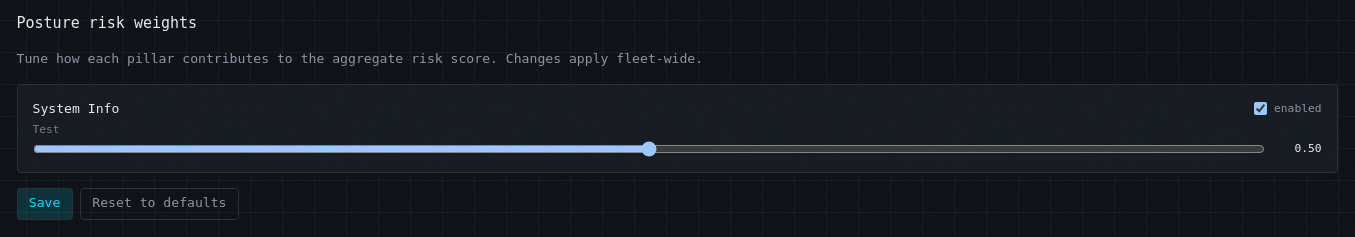
Test: PosturePage › updates weight display when slider changes
Set the slider to "0.75". click: (953, 149)
box: 32,141 -> 1265,157
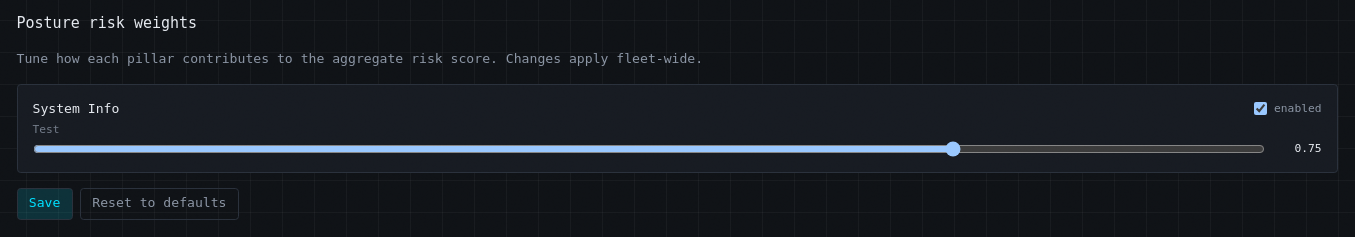
Result: the text "0.75" is shown at 1294,142 -> 1322,155
